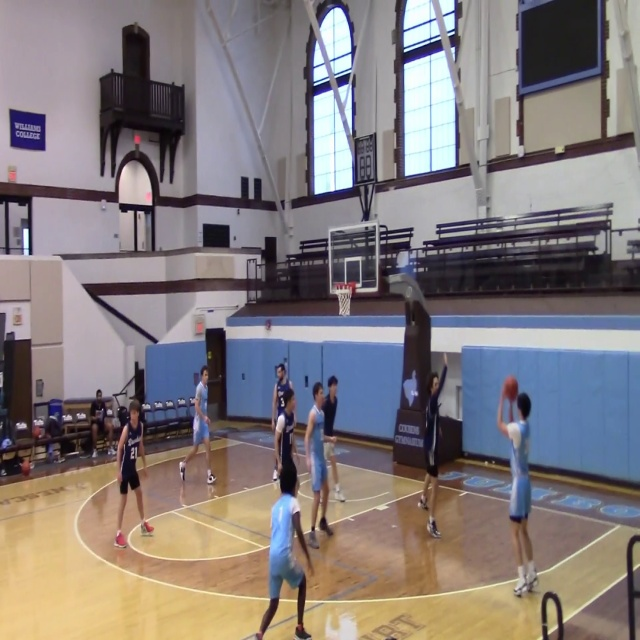Basketball: (503, 376, 518, 400), (20, 461, 30, 475), (32, 426, 41, 437)
